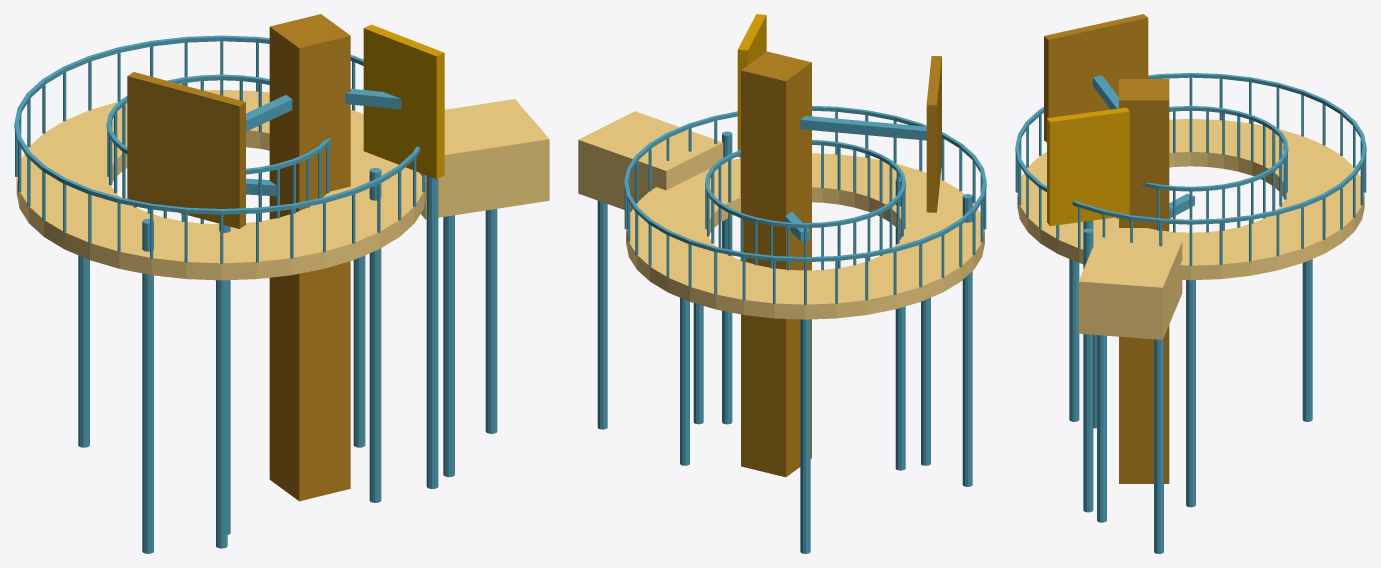
File: folie_tag_052.glb
3 renders of one model, left to right at view 1: azimuth 30°, elevation 25°; view 2: azimuth 150°, elevation 25°; view 3: azimuth 270°, elevation 25°, orthographic. The views are drawn at different scales.
Parts seen in each view (by area): view 1: folie_tag_052_line, folie_tag_052_core, folie_tag_052_00_ring, folie_tag_052_01_panel, folie_tag_052_02_block, folie_tag_052_03_panel; view 2: folie_tag_052_line, folie_tag_052_00_ring, folie_tag_052_core, folie_tag_052_02_block, folie_tag_052_01_panel, folie_tag_052_03_panel; view 3: folie_tag_052_line, folie_tag_052_00_ring, folie_tag_052_core, folie_tag_052_02_block, folie_tag_052_03_panel, folie_tag_052_01_panel.
Boxes of the visible parts, x1,y1,x2,y2 form: folie_tag_052_line: (14, 35, 497, 553); folie_tag_052_core: (269, 14, 350, 501); folie_tag_052_00_ring: (16, 90, 426, 280); folie_tag_052_01_panel: (127, 72, 245, 228); folie_tag_052_02_block: (419, 99, 549, 219); folie_tag_052_03_panel: (363, 24, 444, 179); folie_tag_052_line: (597, 105, 986, 553); folie_tag_052_00_ring: (626, 153, 984, 319); folie_tag_052_core: (741, 51, 811, 477); folie_tag_052_02_block: (578, 111, 723, 212); folie_tag_052_01_panel: (926, 56, 941, 212); folie_tag_052_03_panel: (737, 14, 766, 157); folie_tag_052_line: (1015, 73, 1366, 553); folie_tag_052_00_ring: (1017, 119, 1364, 280); folie_tag_052_core: (1119, 79, 1169, 483); folie_tag_052_02_block: (1078, 235, 1182, 339); folie_tag_052_03_panel: (1047, 107, 1129, 226); folie_tag_052_01_panel: (1044, 14, 1148, 142).
Bounding box in the file's own units: 9.75 × 9.26 × 7.68.
